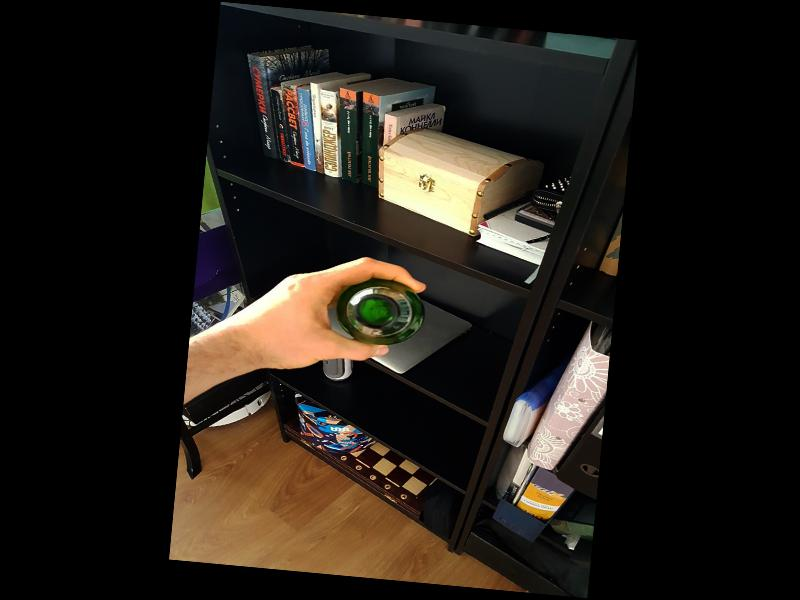Beer: (335, 275, 422, 349)
